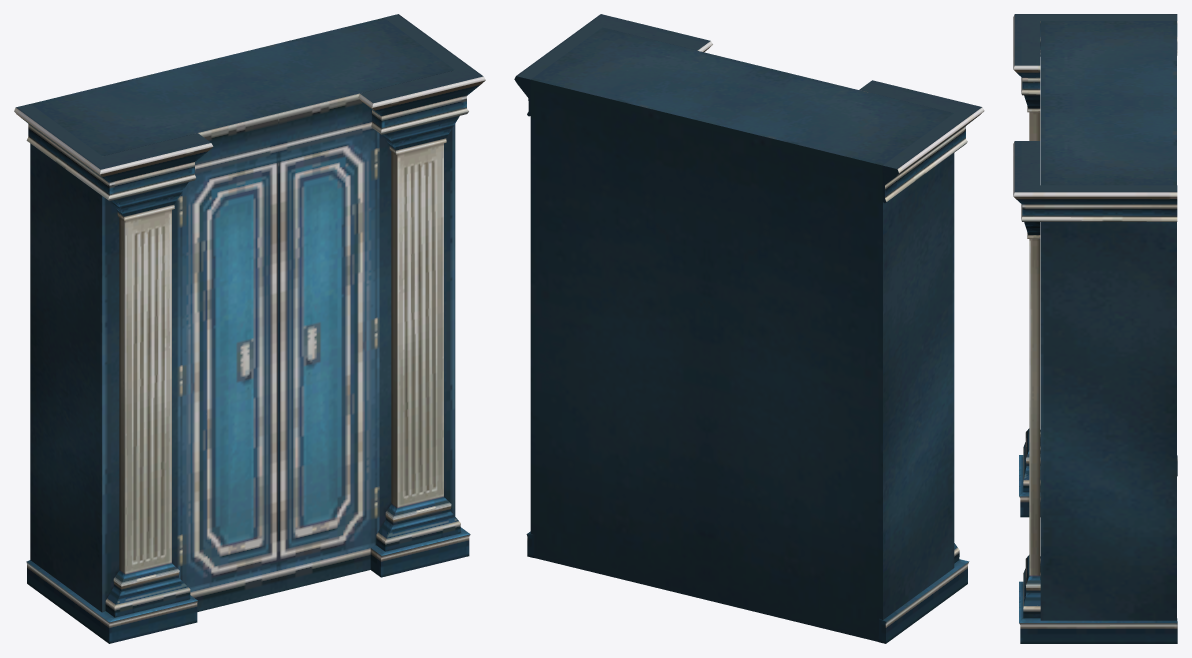
The model's file is furni_0201127_03.FBX.
3 renders of one model, left to right at view 1: azimuth 30°, elevation 25°; view 2: azimuth 150°, elevation 25°; view 3: azimuth 270°, elevation 25°, orthographic. The views are drawn at different scales.
Visible parts, largest first — view 1: furni_0201127_03; view 2: furni_0201127_03; view 3: furni_0201127_03.
Boxes of the visible parts, left/top/right/bottom form: furni_0201127_03: left=14, top=14, right=485, bottom=643; furni_0201127_03: left=514, top=14, right=984, bottom=643; furni_0201127_03: left=1013, top=14, right=1177, bottom=643.
Bounding box in the file's own units: 187 × 222 × 72.07.
Materials: 1 (1 with a texture image).
